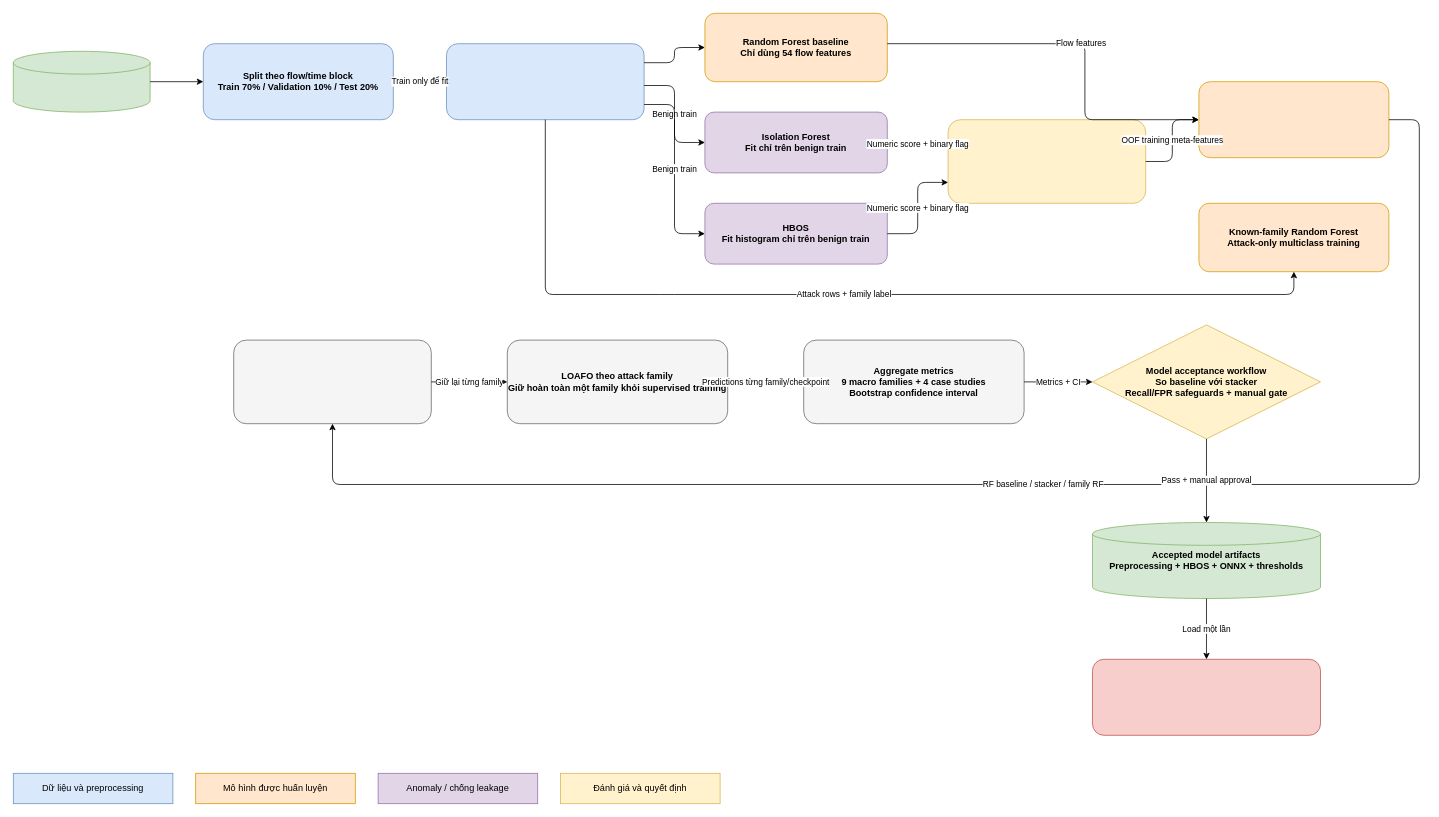
Image size: 1439x817. Some labels were removed from this diagram. Here are the shapes that lost their labels. From the top down, the centre of each, then its label:
(x=81, y=81): Snapshot dataset F3 / F5 / F7 / F9
(x=545, y=81): Preprocessing theo checkpoint Median imputation + StandardScaler
(x=1293, y=119): Random Forest Stacker 54 flow features + 6 anomaly meta-features
(x=1046, y=161): OOF anomaly meta-features 5 fold group-aware Score fold chưa từng dùng để fit
(x=332, y=381): Tree-convergence benchmark So RF 50…300 cây Không tự thay model 300 cây
(x=1206, y=697): Runtime tại mỗi checkpoint Flow RF / anomaly / known-family → decision
